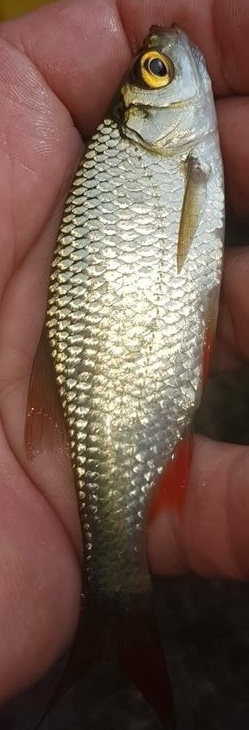Scardinius erythrophthalmus: (20, 20, 229, 710)
